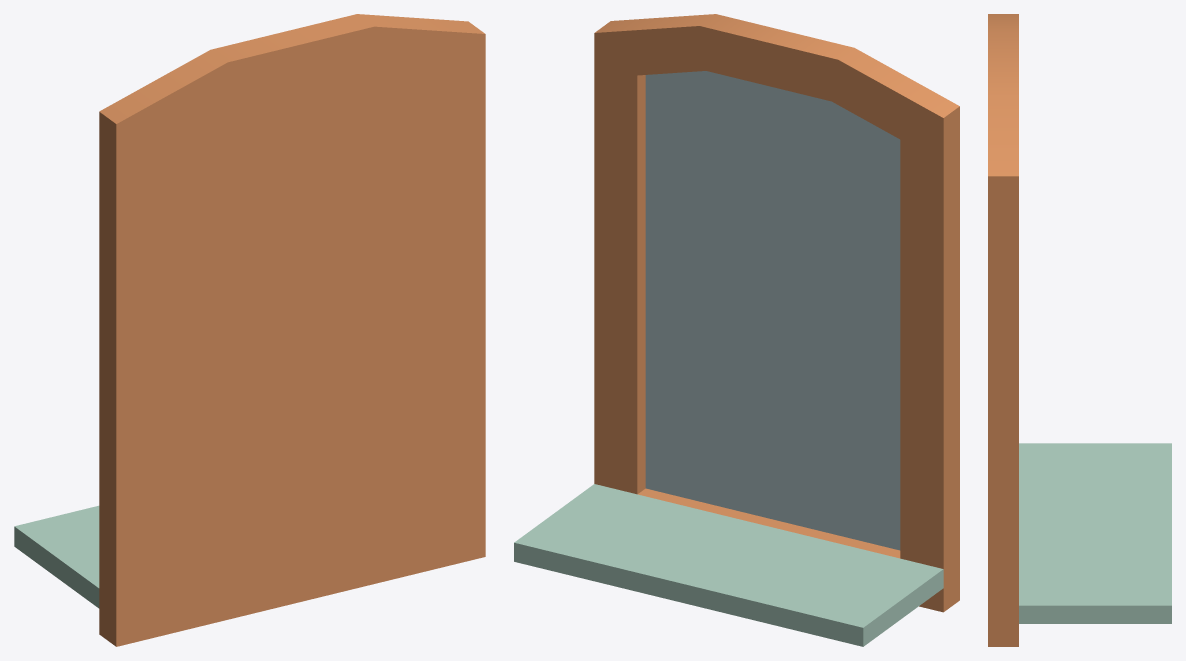
File: bathroomMirror.obj
3 renders of one model, left to right at view 1: azimuth 30°, elevation 25°; view 2: azimuth 150°, elevation 25°; view 3: azimuth 270°, elevation 25°, orthographic. The views are drawn at different scales.
Parts seen in each view (by area): view 1: bathroomMirror; view 2: bathroomMirror; view 3: bathroomMirror.
Part boxes in pixels (x1,y1,x2,y2): bathroomMirror: (14, 14, 485, 646); bathroomMirror: (514, 14, 959, 646); bathroomMirror: (988, 14, 1171, 646).
Size of the model in its own units: 0.3013 by 0.4346 by 0.1444.
